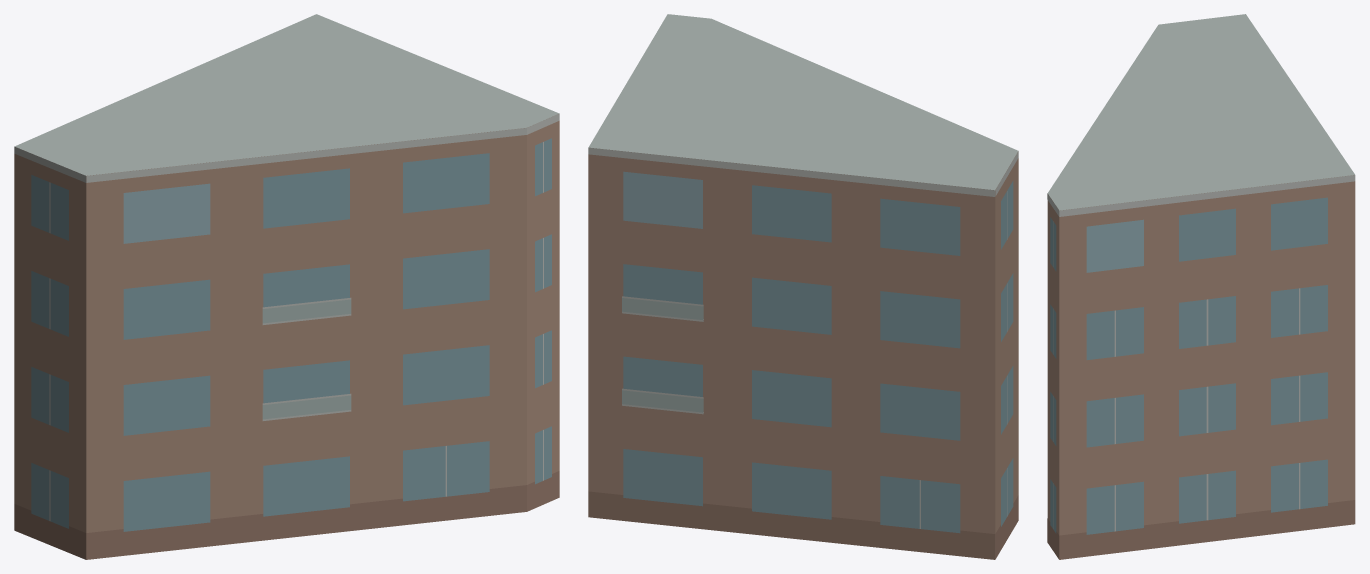
Rendered from survey-upis-32667071.glb.
The picture shows the model from 3 angles, left to right: view 1: azimuth 30°, elevation 25°; view 2: azimuth 150°, elevation 25°; view 3: azimuth 270°, elevation 25°; orthographic projection. The views are drawn at different scales.
Parts seen in each view (by area): view 1: survey-upis-32667071.tmp; view 2: survey-upis-32667071.tmp; view 3: survey-upis-32667071.tmp.
Part boxes in pixels (<box>): survey-upis-32667071.tmp: <box>14,14,559,559</box>; survey-upis-32667071.tmp: <box>588,14,1018,559</box>; survey-upis-32667071.tmp: <box>1047,14,1355,559</box>.
Bounding box in the file's own units: 15.94 × 13.2 × 10.55.
